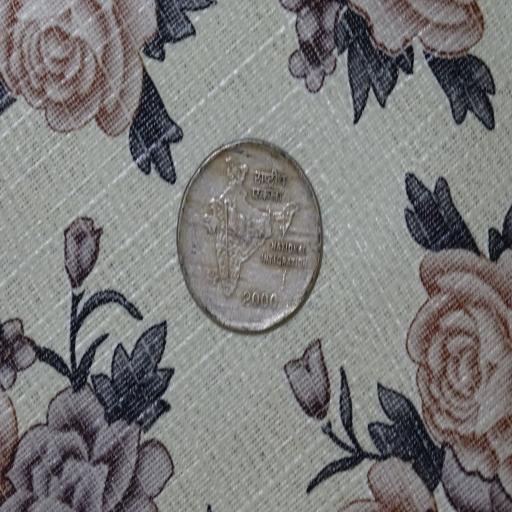rupee2: (175, 140, 322, 334)
